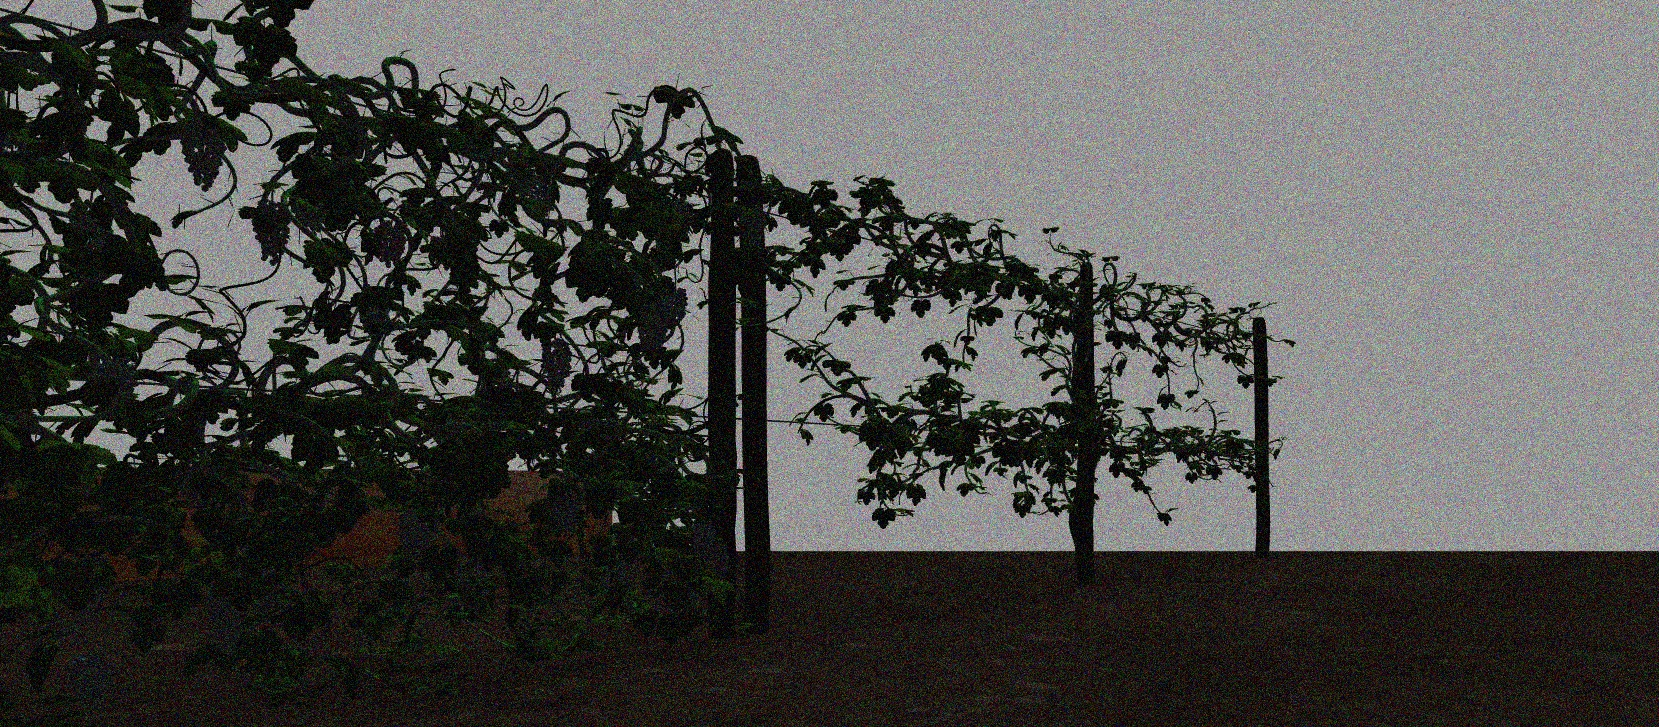grape: (63, 648, 115, 714), (178, 119, 225, 190), (202, 588, 247, 658), (86, 355, 139, 411), (252, 200, 289, 263), (397, 508, 435, 567), (455, 553, 486, 616), (541, 335, 575, 390), (372, 220, 411, 266), (637, 301, 669, 355), (737, 210, 770, 252), (660, 287, 687, 328), (553, 490, 578, 531), (688, 523, 716, 555), (613, 556, 638, 589), (704, 548, 730, 579)
